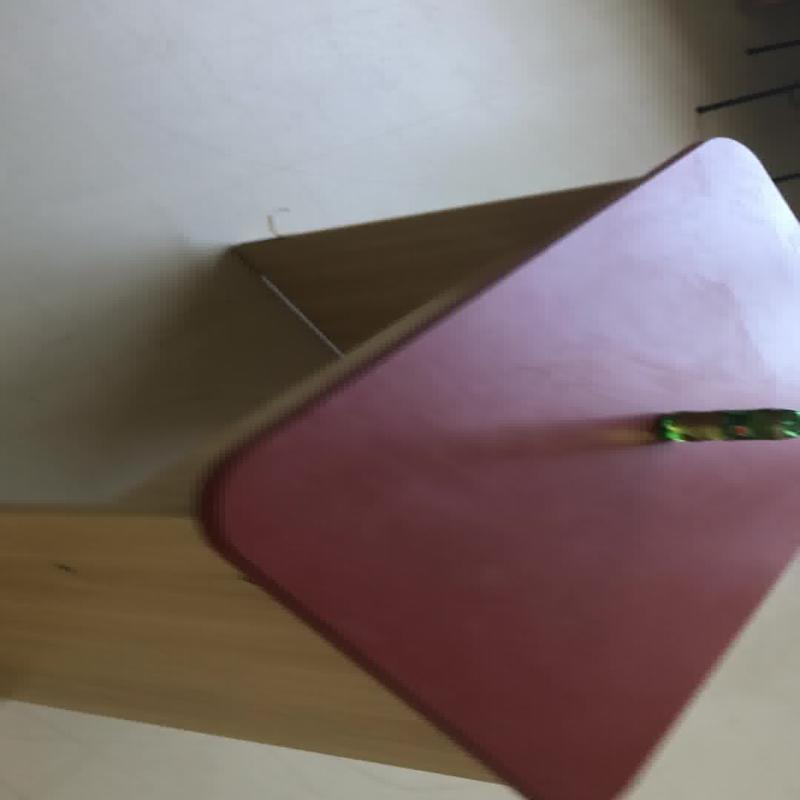guarana: (194, 135, 796, 797), (651, 406, 796, 443)
